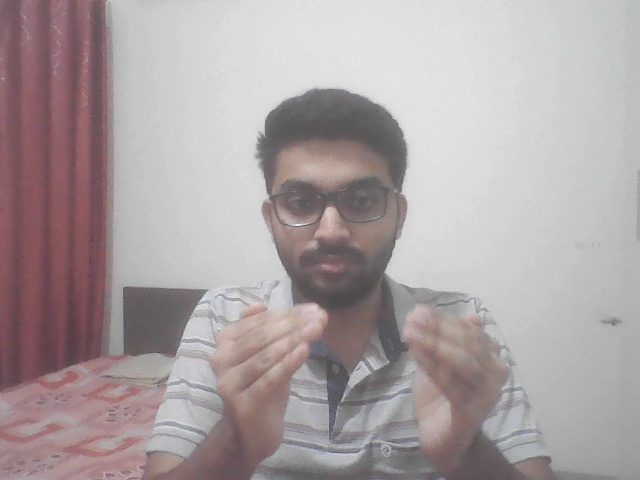small: (197, 283, 517, 473)
